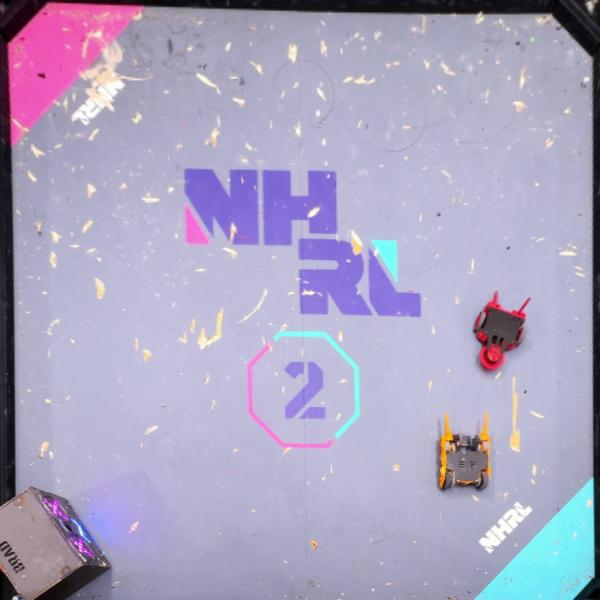housebot: (0, 485, 112, 600)
robot: (474, 289, 532, 372), (438, 410, 493, 490)
